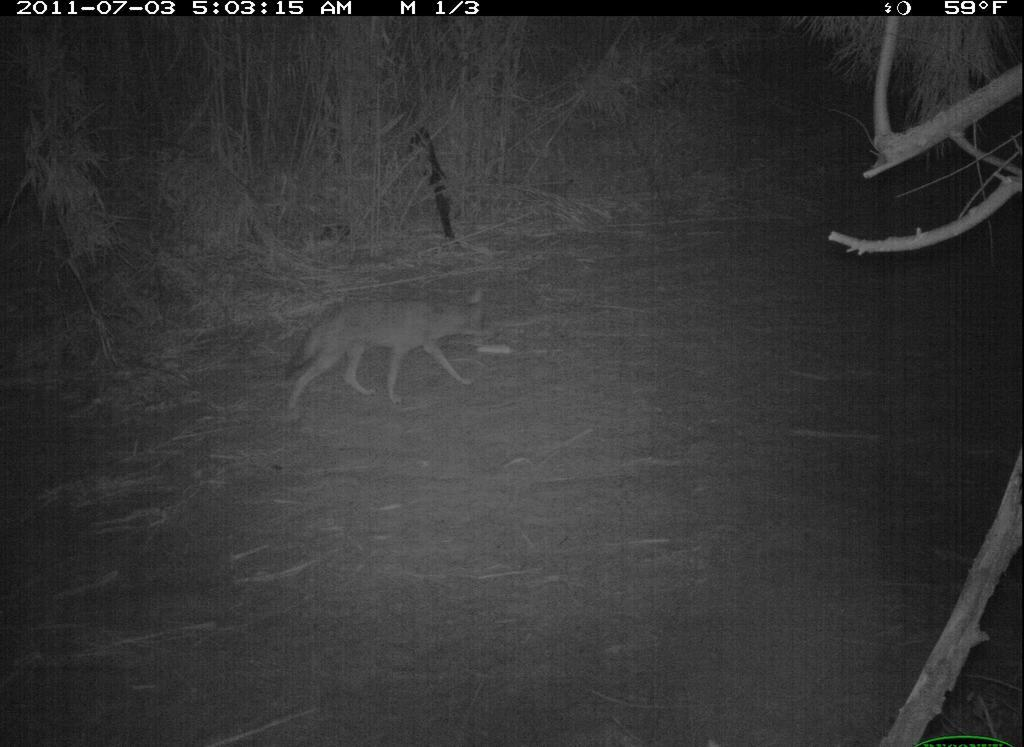coyote: (278, 264, 504, 423)
